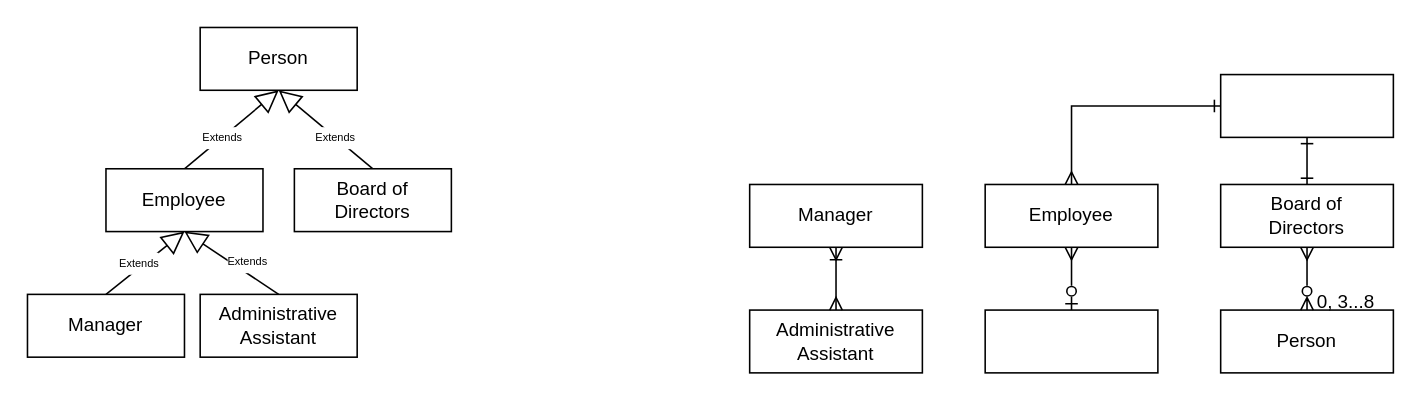
This 1421x400 diagram has some shape labels left out. Here are the shapes that lost their labels. From the top down, the centre of each, then its label:
point 1306,105: Company
point 1071,341: Office
